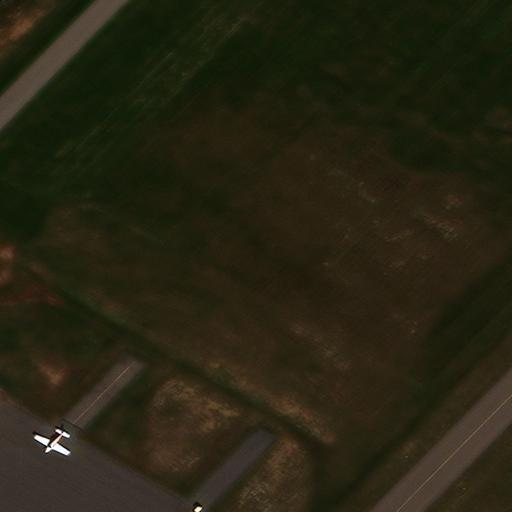Small Civil Transport: (33, 430, 67, 456)
